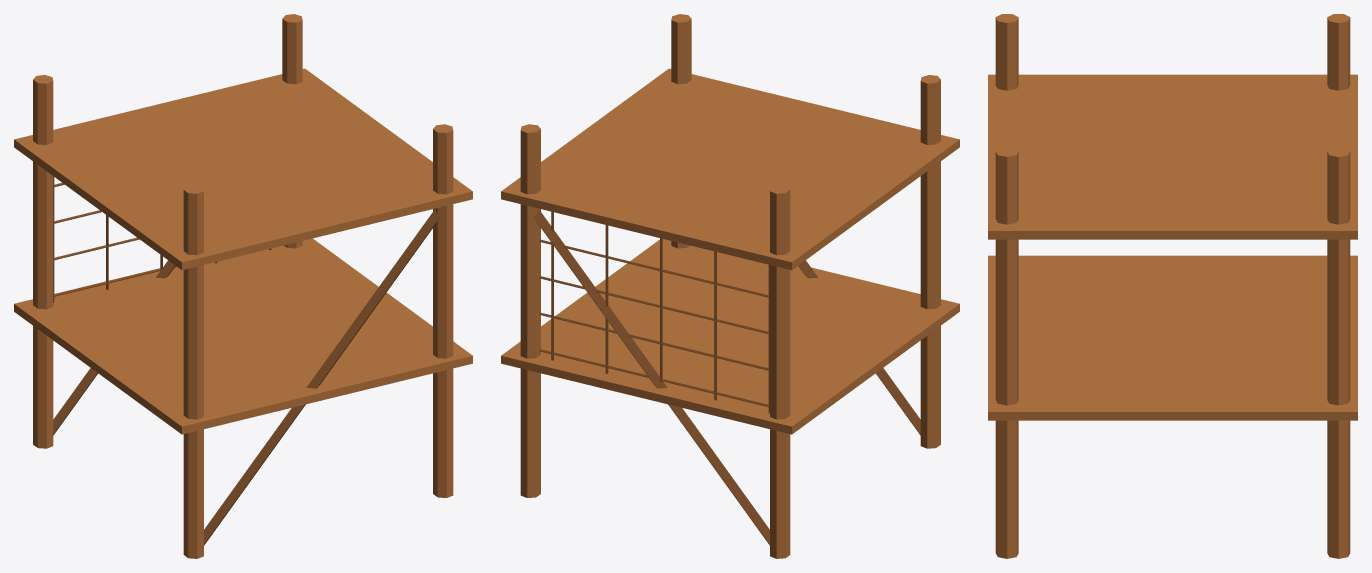
File: climbing_tower_primate.fbx
3 views of the same model, side by side, from view 1: azimuth 30°, elevation 25°; view 2: azimuth 150°, elevation 25°; view 3: azimuth 270°, elevation 25° (orthographic). The views are drawn at different scales.
Visible parts, largest first — view 1: climbing_tower_primate; view 2: climbing_tower_primate; view 3: climbing_tower_primate.
Boxes of the visible parts, x1=… form: climbing_tower_primate: x1=14, y1=14, x2=472, y2=558; climbing_tower_primate: x1=501, y1=14, x2=959, y2=558; climbing_tower_primate: x1=988, y1=14, x2=1357, y2=558.
Size of the model in its own units: 5 by 6 by 5.
